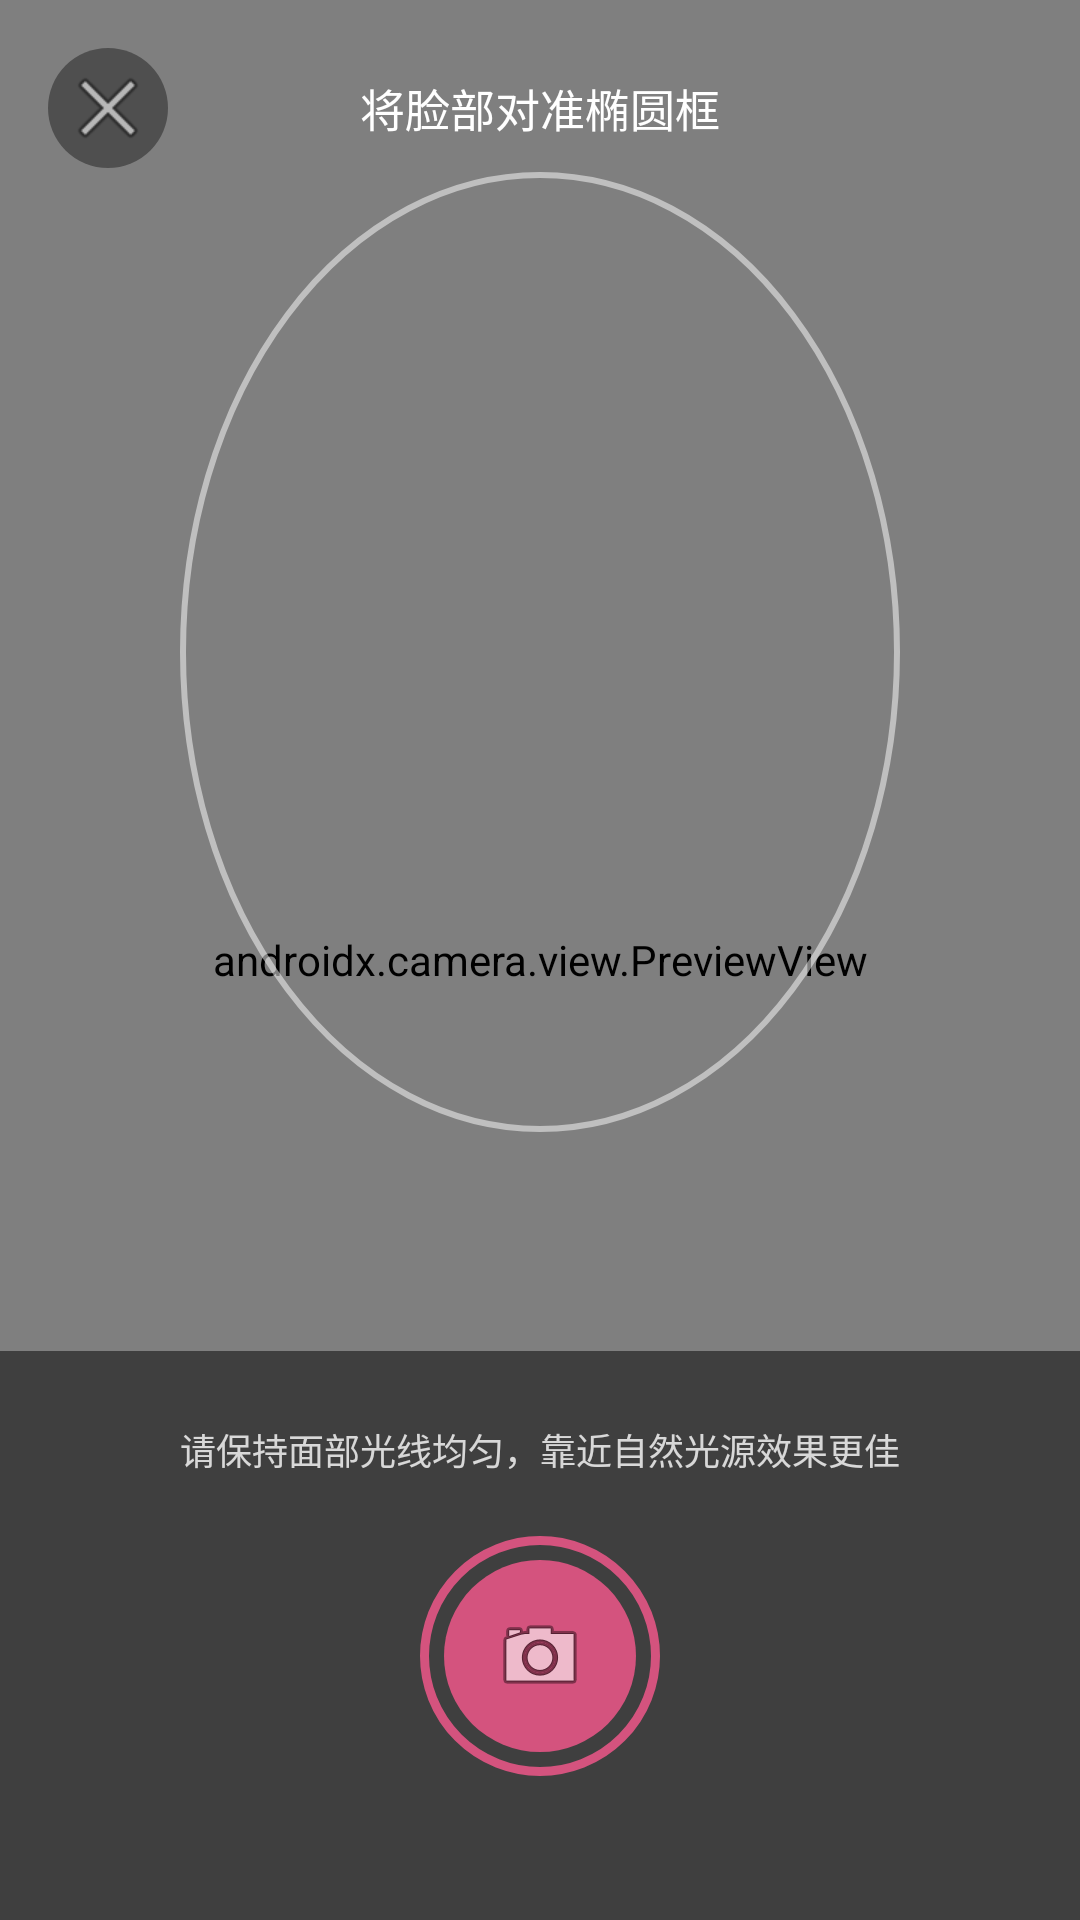

Where icons sit on this 1080px x 1920px app screen, as detection(x1, y1, x2, y2):
拍照: detection(444, 1560, 636, 1752)
返回: detection(48, 48, 168, 168)
